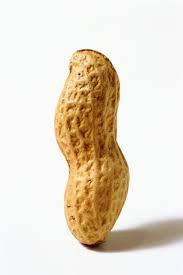kacang2: (42, 42, 146, 250)
